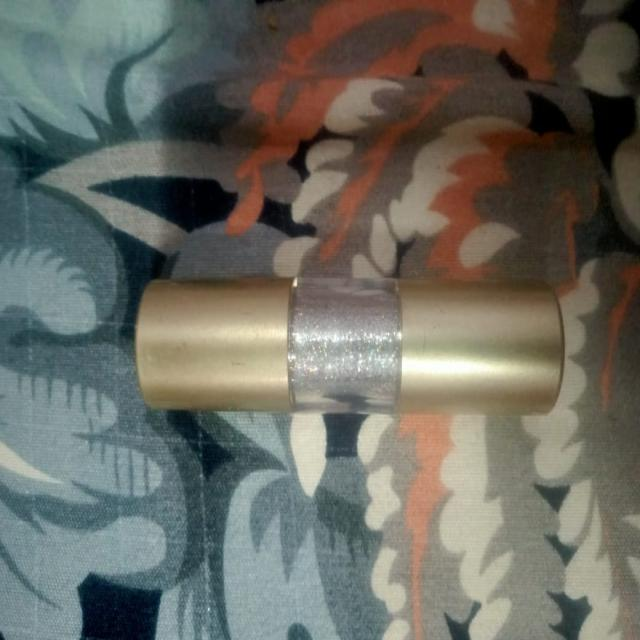lip gloss: (128, 253, 586, 474)
